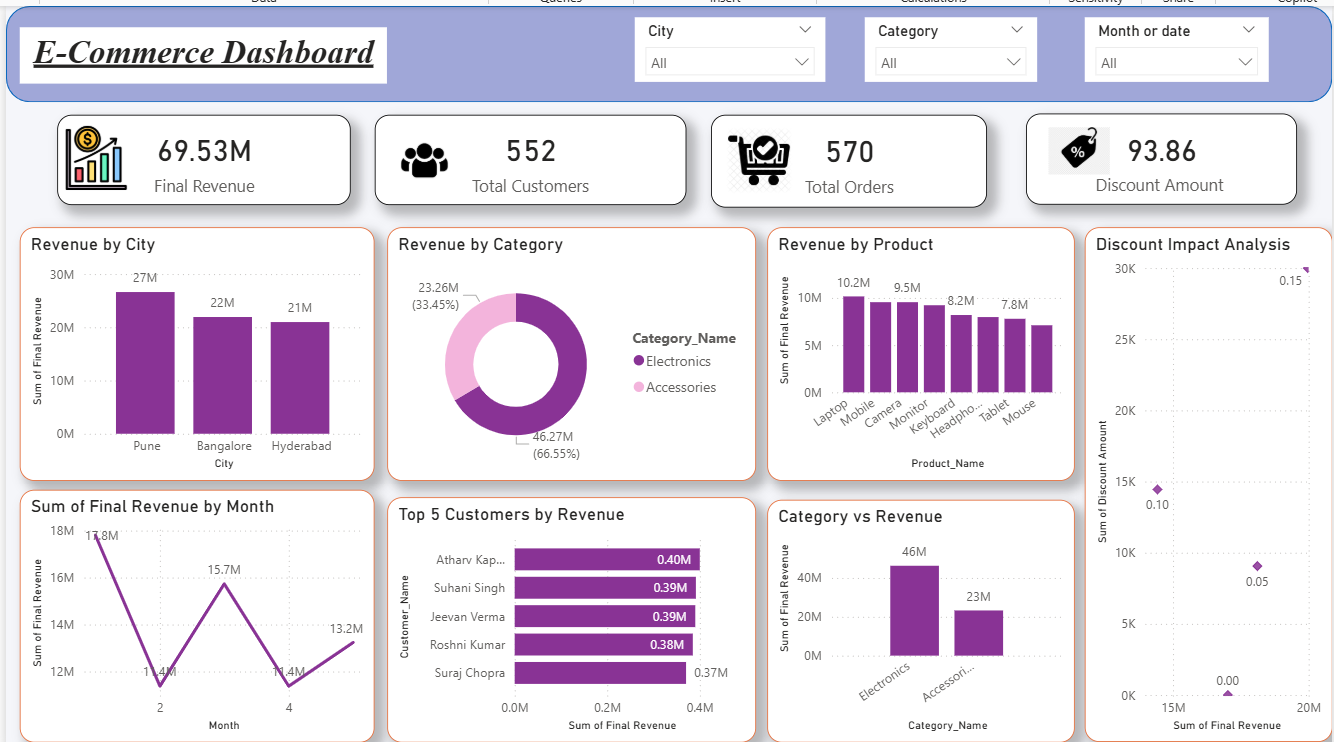

This screenshot's page, from the dashboard's own definition file:
{"tool":"powerbi","page":{"name":"Commerce","canvas":[1280,720],"ordinal":0},"visuals":[{"type":"shape","box":[0,0,1280,92.9],"z":0},{"type":"textbox","box":[13.3,20.5,354.7,54.3],"z":1000},{"type":"card","fields":{"Values":["Avg(Sheet1.Discount Amount )"]},"box":[984.5,103.8,261.8,88.1],"z":2000},{"type":"card","fields":{"Values":["Count(Sheet1.Customer_Name)"]},"box":[355.9,105,300.4,86.9],"z":3000},{"type":"card","fields":{"Values":["CountNonNull(Sheet1.Order_ID)"]},"box":[680.4,105,266.6,89.3],"z":4000},{"type":"card","fields":{"Values":["Sum(Sheet1.Final Revenue)"]},"box":[49.5,105,283.5,86.9],"z":5000},{"type":"image","box":[49.5,114.6,74.8,63.9],"z":6000},{"type":"image","box":[355.9,117,96.5,63.9],"z":7000},{"type":"image","box":[680.4,117,92.9,63.9],"z":8000},{"type":"image","box":[1006.2,114.6,59.1,50.7],"z":9000},{"type":"clusteredColumnChart","title":"Revenue by City","fields":{"Y":["Sum(Sheet1.Final Revenue)"],"Category":["Sheet1.City"]},"box":[13.3,213.5,342.6,244.9],"z":10000},{"type":"donutChart","title":"Revenue by Category","fields":{"Category":["Sheet1.Category_Name"],"Y":["Sum(Sheet1.Final Revenue)"]},"box":[368,213.5,355.9,244.9],"z":11000},{"type":"lineChart","fields":{"Y":["Sum(Sheet1.Final Revenue)"],"Category":["Sheet1.Month"]},"box":[13.3,466.9,342.6,243.7],"z":12000},{"type":"clusteredBarChart","title":"Top 5 Customers by Revenue","fields":{"Category":["Sheet1.Customer_Name"],"Y":["Sum(Sheet1.Final Revenue)"]},"box":[368,474.1,355.9,236.5],"z":13000},{"type":"clusteredColumnChart","title":"Revenue by Product","fields":{"Category":["Sheet1.Product_Name"],"Y":["Sum(Sheet1.Final Revenue)"]},"box":[734.7,213.5,296.8,244.9],"z":14000},{"type":"columnChart","title":"Category vs Revenue","fields":{"Category":["Sheet1.Category_Name"],"Y":["Sum(Sheet1.Final Revenue)"]},"box":[734.7,476.5,296.8,234],"z":15000},{"type":"slicer","fields":{"Values":["Sheet1.City"]},"box":[606.2,11.2,183.8,62.5],"z":16000},{"type":"slicer","fields":{"Values":["Sheet1.Category_Name"]},"box":[828.8,11.2,166.2,62.5],"z":17000},{"type":"slicer","fields":{"Values":["Sheet1.Month"]},"box":[1041.2,11.2,177.5,62.5],"z":18000},{"type":"scatterChart","title":"Discount Impact Analysis","fields":{"X":["Sum(Sheet1.Final Revenue)"],"Y":["Sum(Sheet1.Discount Amount )"],"Category":["Sheet1.Updated_Discount"]},"box":[1041.2,213.5,238.9,497.1],"z":19000}]}

Visuals, with their boxes in screenshot pixels (x1, y1, x2, y2):
shape: box(0, 0, 1333, 98)
textbox: box(0, 22, 375, 79)
card - Avg(Sheet1.Discount Amount ): box(1025, 110, 1302, 203)
card - Count(Sheet1.Customer_Name): box(362, 111, 679, 203)
card - CountNonNull(Sheet1.Order_ID): box(704, 111, 986, 205)
card - Sum(Sheet1.Final Revenue): box(38, 111, 338, 203)
image: box(38, 121, 117, 188)
image: box(362, 124, 464, 191)
image: box(704, 124, 802, 191)
image: box(1048, 121, 1111, 175)
"Revenue by City" clusteredColumnChart: box(0, 225, 362, 484)
"Revenue by Category" donutChart: box(375, 225, 750, 484)
lineChart - Sum(Sheet1.Final Revenue) x Sheet1.Month: box(0, 493, 362, 741)
"Top 5 Customers by Revenue" clusteredBarChart: box(375, 501, 750, 741)
"Revenue by Product" clusteredColumnChart: box(762, 225, 1075, 484)
"Category vs Revenue" columnChart: box(762, 503, 1075, 741)
slicer - Sheet1.City: box(626, 12, 820, 78)
slicer - Sheet1.Category_Name: box(861, 12, 1037, 78)
slicer - Sheet1.Month: box(1085, 12, 1273, 78)
"Discount Impact Analysis" scatterChart: box(1085, 225, 1333, 741)
